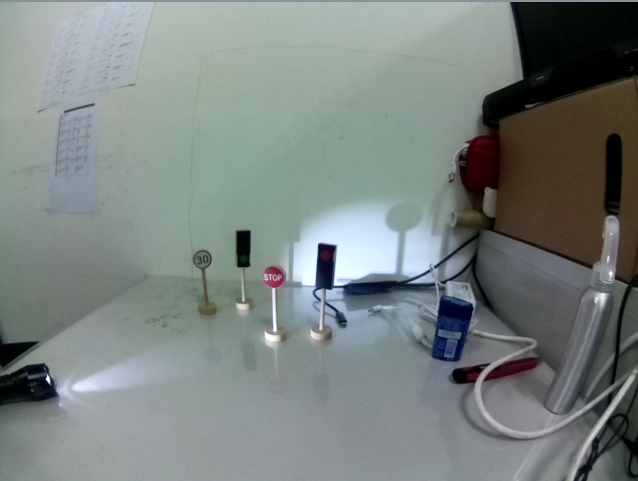Green: (233, 228, 253, 272)
Red: (314, 241, 340, 298)
Speed30: (192, 248, 216, 275)
Stop: (261, 263, 287, 293)
